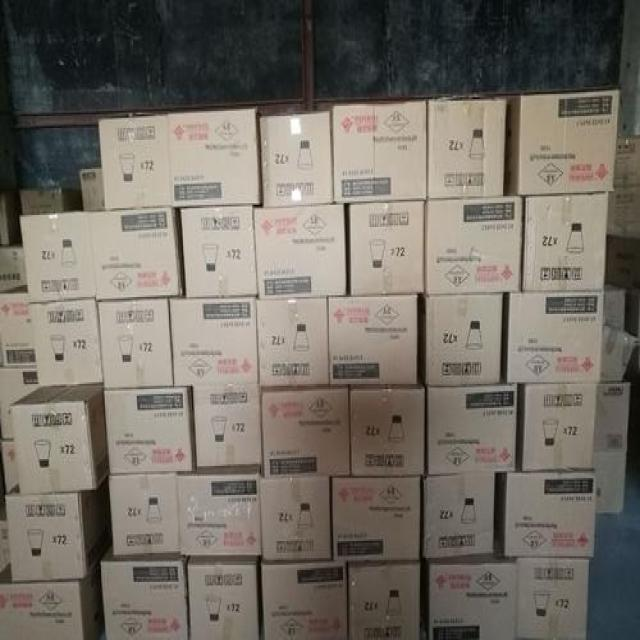box: (169, 104, 303, 207), (507, 90, 620, 195), (10, 384, 110, 495), (332, 101, 428, 203), (426, 196, 524, 294), (253, 205, 346, 300), (88, 208, 182, 299), (507, 292, 603, 381), (261, 384, 349, 480), (101, 544, 188, 640), (102, 386, 196, 474), (521, 195, 608, 290), (429, 382, 516, 476), (169, 297, 259, 386), (6, 492, 96, 580), (329, 294, 416, 384), (504, 473, 595, 558), (428, 99, 506, 198), (333, 476, 421, 563), (179, 469, 262, 560), (0, 565, 99, 640), (428, 558, 517, 640), (349, 201, 425, 297), (261, 558, 348, 640), (180, 205, 257, 297), (425, 294, 503, 384), (99, 114, 172, 210), (262, 111, 334, 207), (19, 212, 93, 304), (349, 384, 424, 474), (27, 299, 104, 386), (99, 299, 173, 389), (522, 381, 595, 471), (256, 297, 329, 386), (259, 478, 333, 558), (425, 471, 494, 556), (188, 556, 257, 640), (517, 558, 589, 638), (192, 386, 262, 468), (110, 474, 179, 555), (349, 563, 419, 638), (0, 285, 37, 367), (0, 369, 38, 439), (595, 384, 630, 454), (594, 449, 626, 515), (602, 326, 637, 381), (20, 188, 79, 215), (608, 186, 639, 237), (614, 137, 639, 188), (0, 247, 27, 290), (81, 169, 104, 212), (603, 285, 625, 329), (1, 440, 18, 493), (0, 200, 15, 244), (1, 521, 10, 570)
